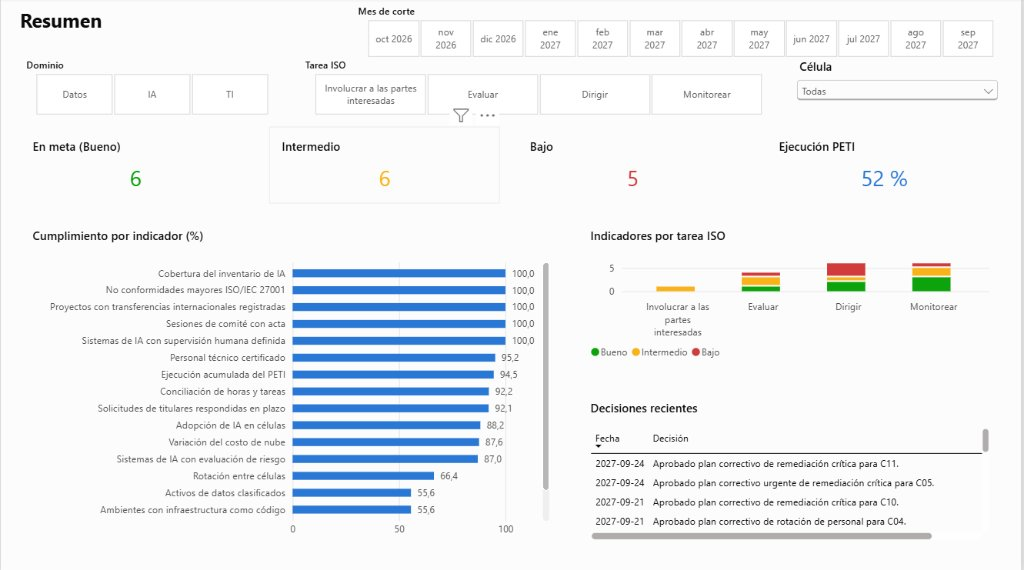

The page's visual inventory and layout, read from the dashboard file:
{"tool":"powerbi","page":{"name":"Resumen","canvas":[1280,720],"ordinal":0},"visuals":[{"type":"textbox","box":[24,12,400,48],"z":1000},{"type":"slicer","fields":{"Values":["dim_corte.etiqueta"]},"box":[440.4,8.4,824,67.6],"z":2000},{"type":"slicer","fields":{"Values":["dim_indicador.dominio"]},"box":[24,76,330,72],"z":4000},{"type":"slicer","fields":{"Values":["dim_tarea.tarea"]},"box":[374,76,600,72],"z":4100},{"type":"slicer","fields":{"Values":["dim_celula.nombre"]},"box":[994,76,262,72],"z":4200},{"type":"card","title":"En meta (Bueno)","fields":{"Values":["Medidas.Indicadores Bueno"]},"box":[24,162,290,96],"z":5000},{"type":"card","title":"Intermedio","fields":{"Values":["Medidas.Indicadores Intermedio"]},"box":[336,162,290,96],"z":5100},{"type":"card","title":"Bajo","fields":{"Values":["Medidas.Indicadores Bajo"]},"box":[648,162,290,96],"z":5200},{"type":"card","title":"Ejecución PETI","fields":{"Values":["Medidas.Valor texto"]},"box":[960,162,296,96],"z":5300},{"type":"clusteredBarChart","title":"Cumplimiento por indicador (%)","fields":{"Category":["dim_indicador.nombre"],"Y":["Medidas.Cumplimiento"]},"box":[24,274,680,422],"z":6000},{"type":"columnChart","title":"Indicadores por tarea ISO","fields":{"Category":["dim_tarea.tarea"],"Y":["Medidas.Indicadores Bueno","Medidas.Indicadores Intermedio","Medidas.Indicadores Bajo"]},"box":[724,274,532,200],"z":6100},{"type":"tableEx","title":"Decisiones recientes","fields":{"Values":["fact_decision.fecha","fact_decision.decision"]},"box":[724,490,532,206],"z":6200}]}

Visuals, with their boxes in screenshot pixels (x1, y1, x2, y2), scaled from the page's 1280x720 canvas onto the 1024x570 screenshot:
textbox: region(19, 10, 339, 48)
slicer - dim_corte.etiqueta: region(352, 7, 1012, 60)
slicer - dim_indicador.dominio: region(19, 60, 283, 117)
slicer - dim_tarea.tarea: region(299, 60, 779, 117)
slicer - dim_celula.nombre: region(795, 60, 1005, 117)
"En meta (Bueno)" card: region(19, 128, 251, 204)
"Intermedio" card: region(269, 128, 501, 204)
"Bajo" card: region(518, 128, 750, 204)
"Ejecución PETI" card: region(768, 128, 1005, 204)
"Cumplimiento por indicador (%)" clusteredBarChart: region(19, 217, 563, 551)
"Indicadores por tarea ISO" columnChart: region(579, 217, 1005, 375)
"Decisiones recientes" tableEx: region(579, 388, 1005, 551)
